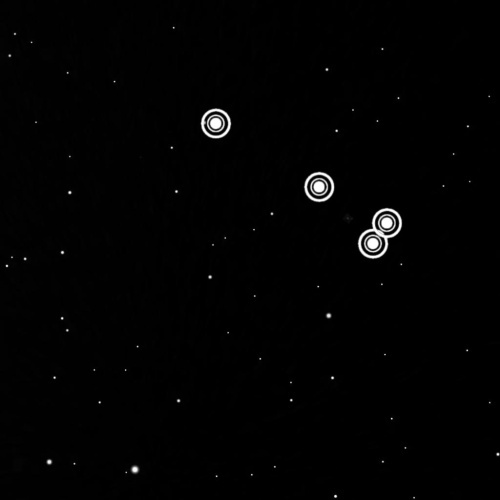sagitta: (194, 100, 409, 266)
